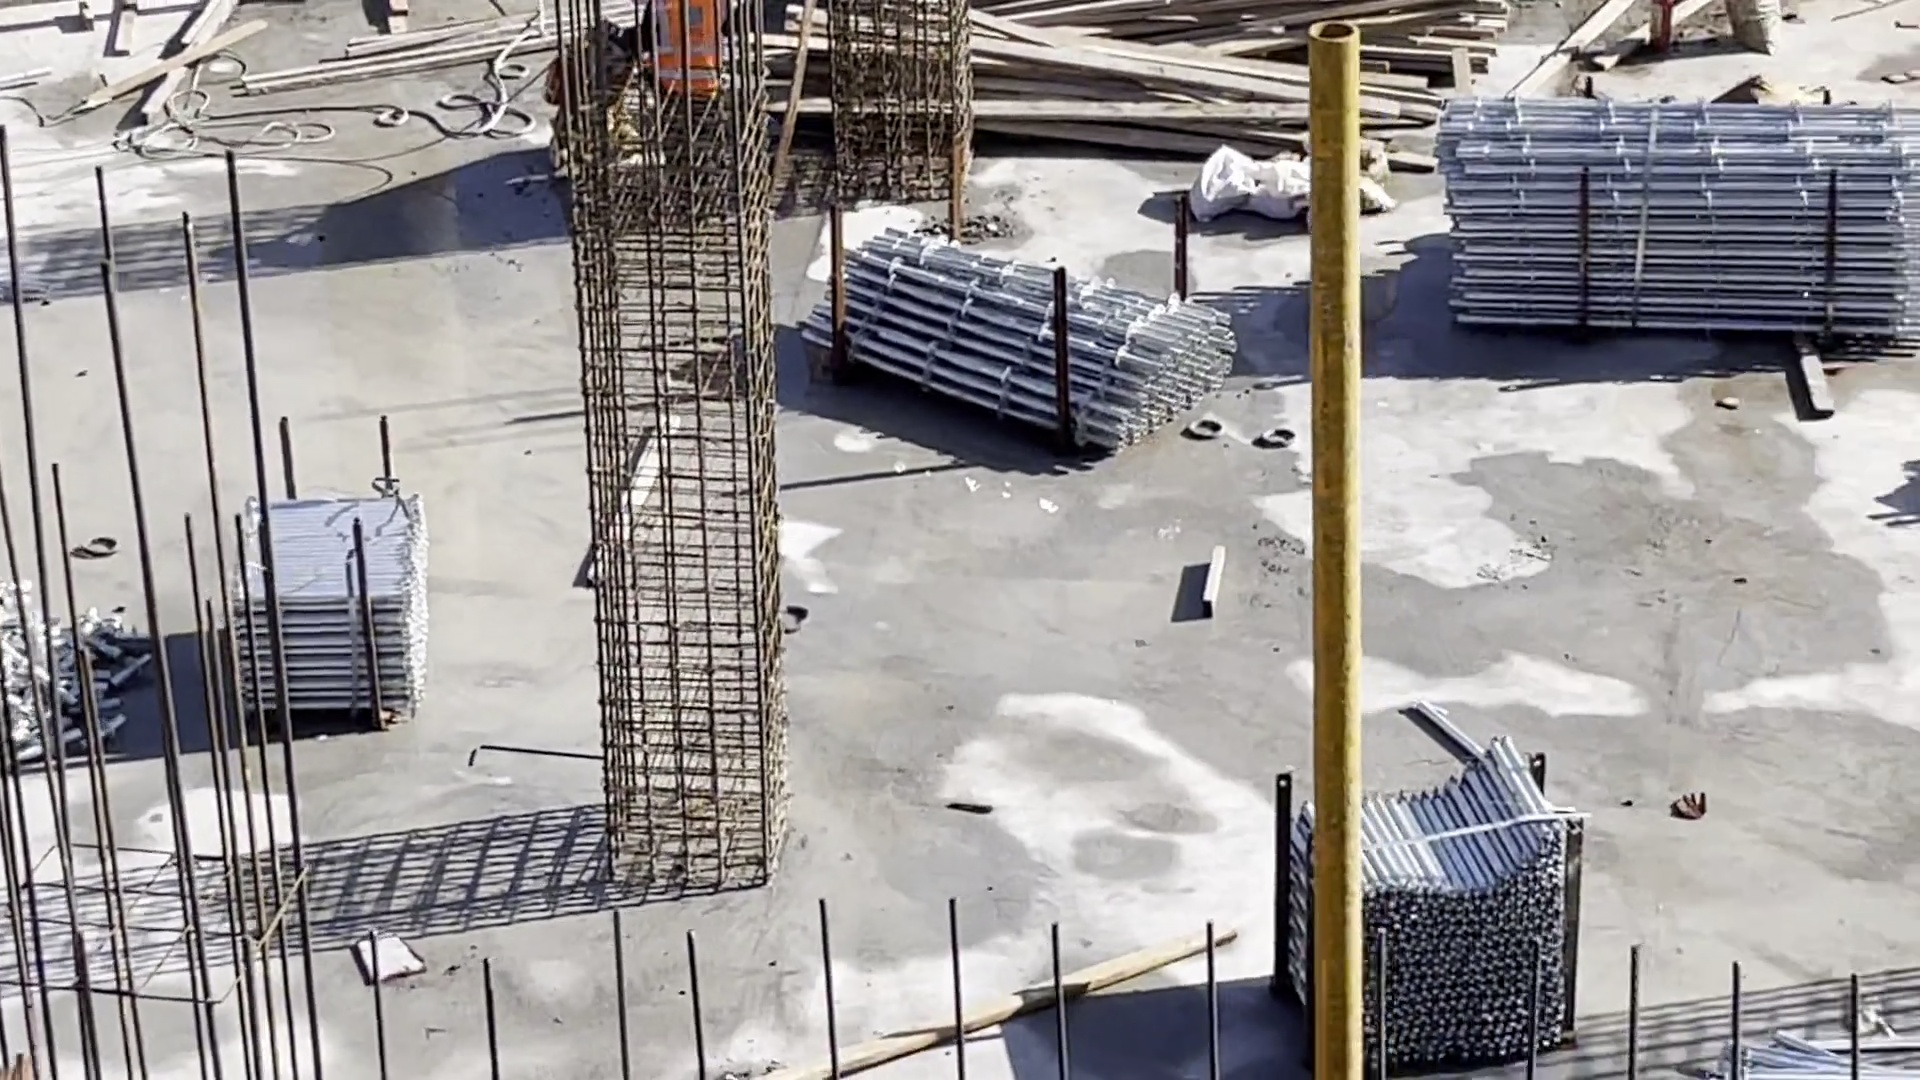scaffold: (1436, 98, 1920, 352), (793, 223, 1241, 454), (1276, 737, 1582, 1071), (235, 492, 429, 715)
